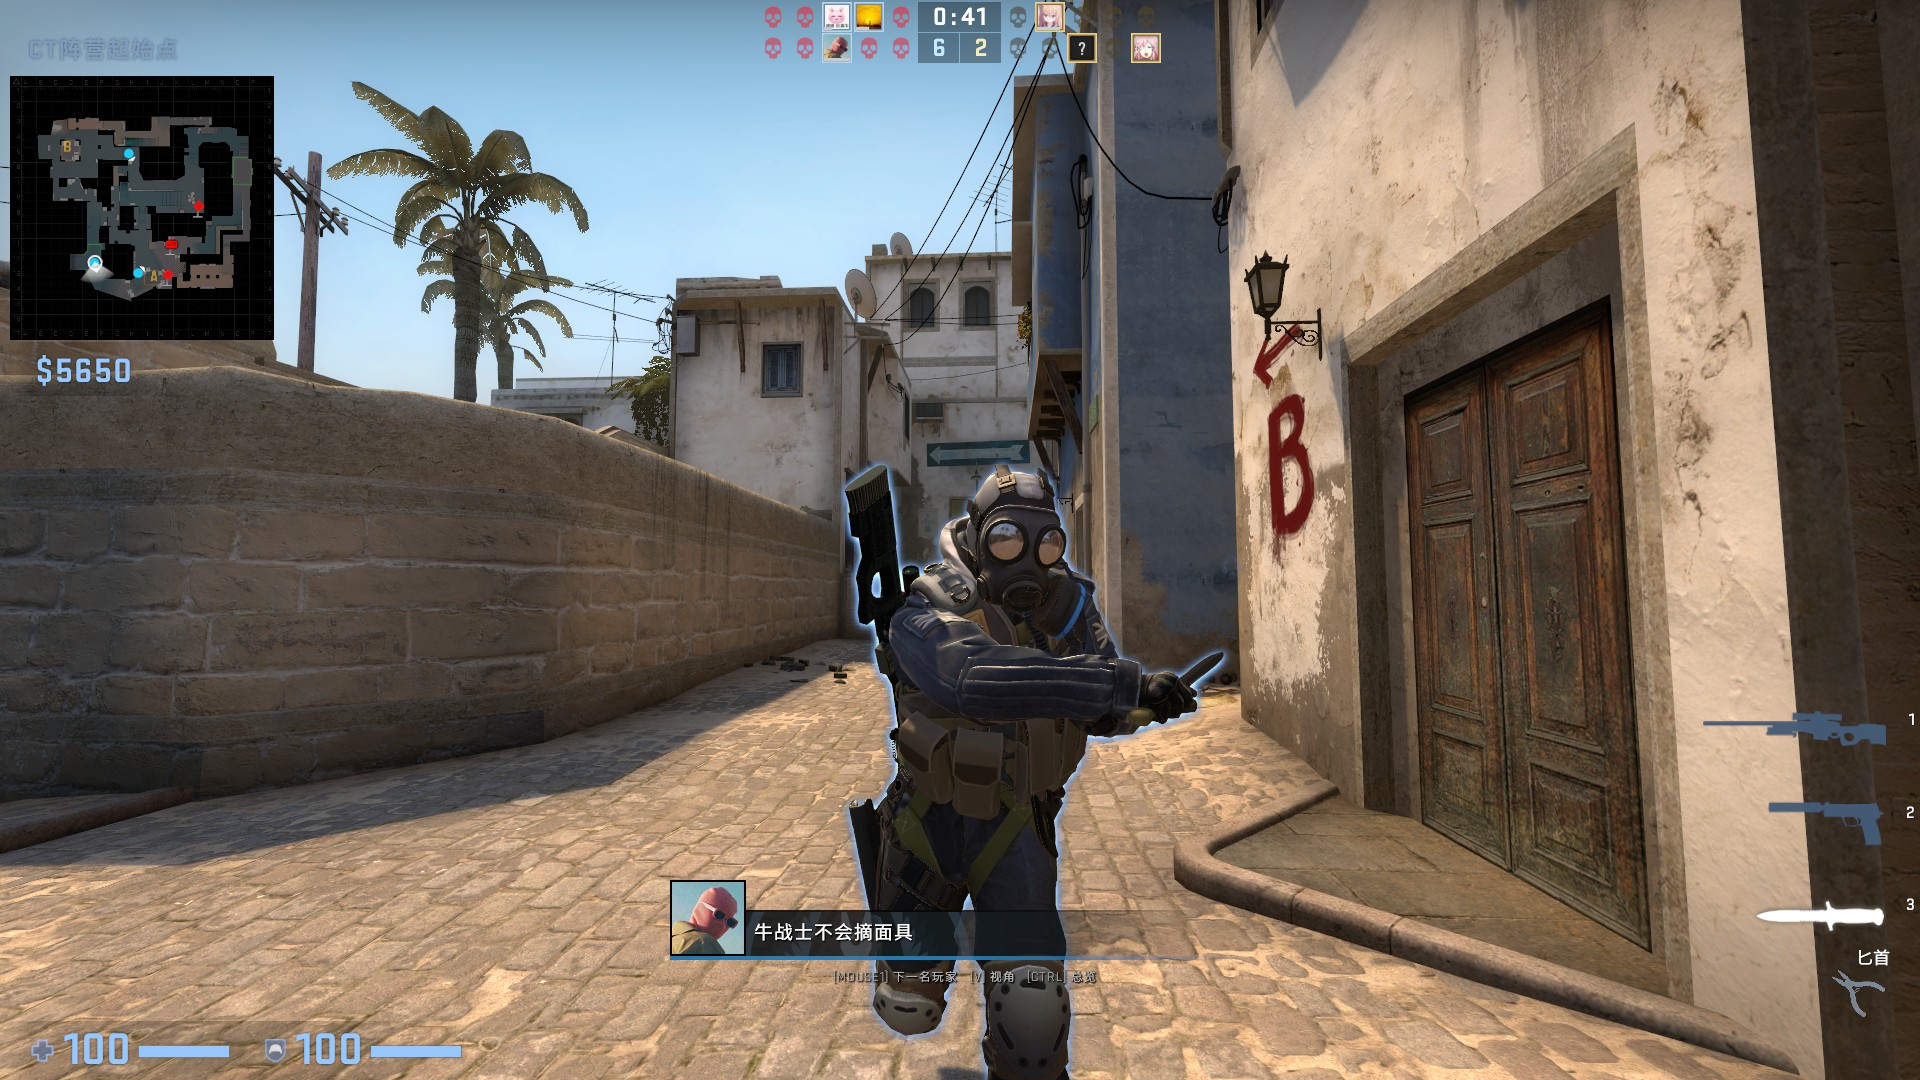head: (958, 460, 1072, 616)
